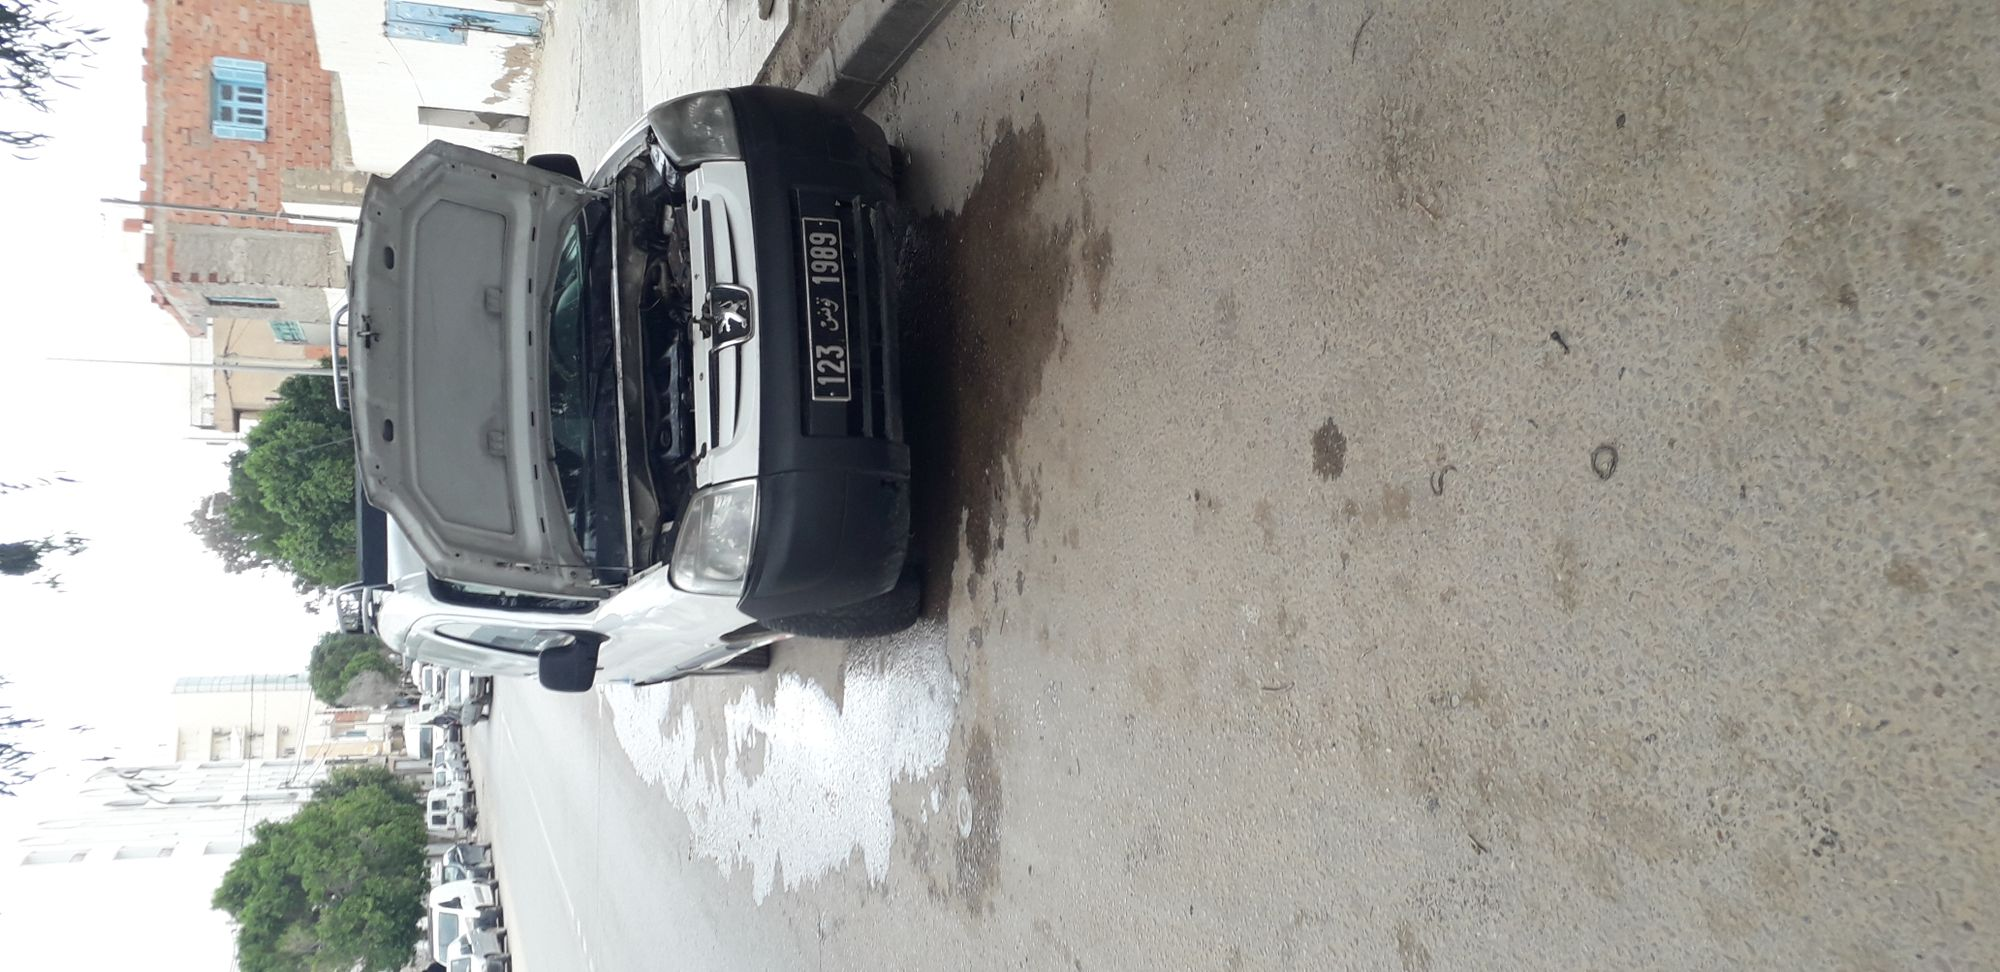LP: (799, 215, 853, 403)
